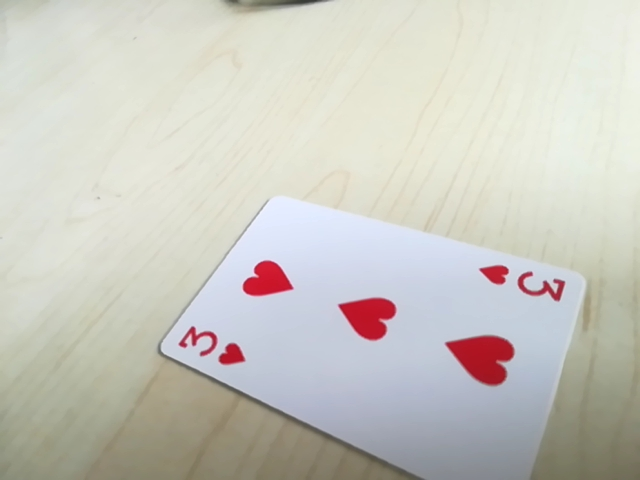hx 3: (476, 259, 573, 306), (169, 321, 252, 371)
